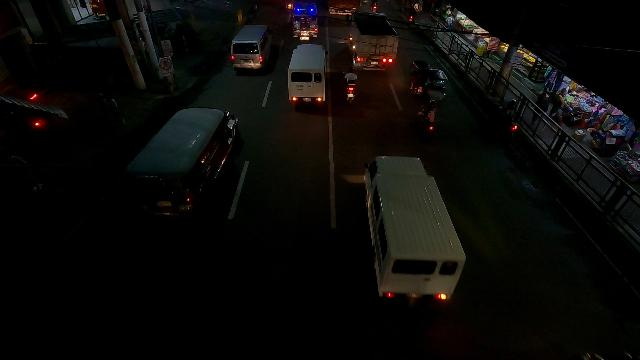jeepney: (124, 107, 239, 214), (293, 0, 318, 40)
motorcycle: (345, 65, 358, 103)
truck: (349, 10, 399, 70)
van: (365, 156, 466, 300), (288, 43, 326, 108), (231, 24, 273, 70)
